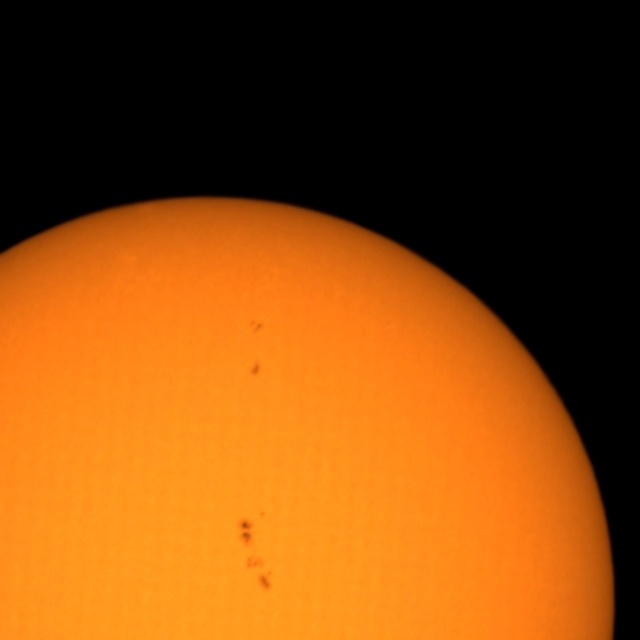sunspot: (242, 552, 277, 594), (236, 508, 269, 548), (237, 516, 256, 546), (247, 359, 264, 380), (247, 318, 266, 336)
